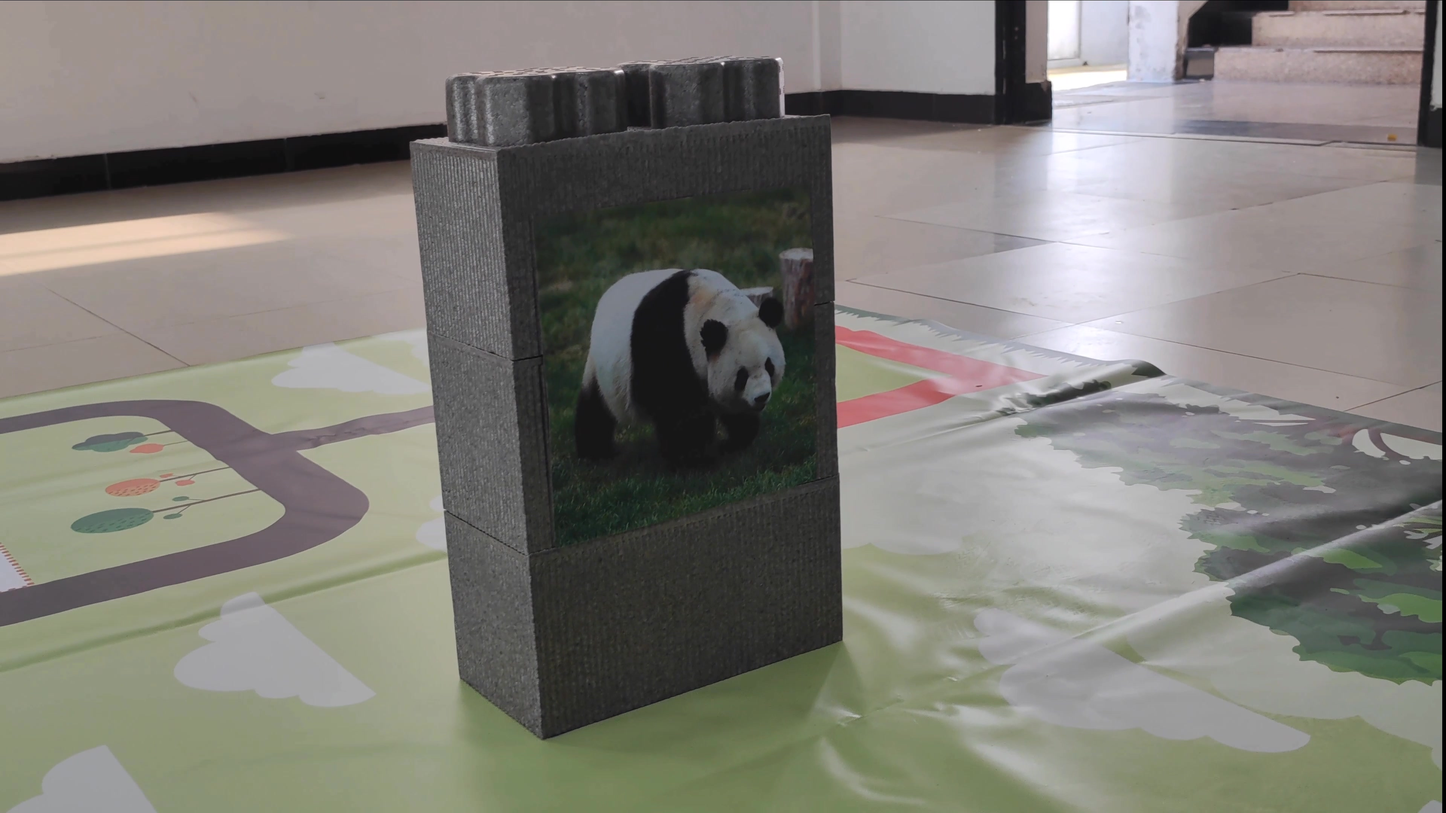panda: (551, 219, 800, 478)
